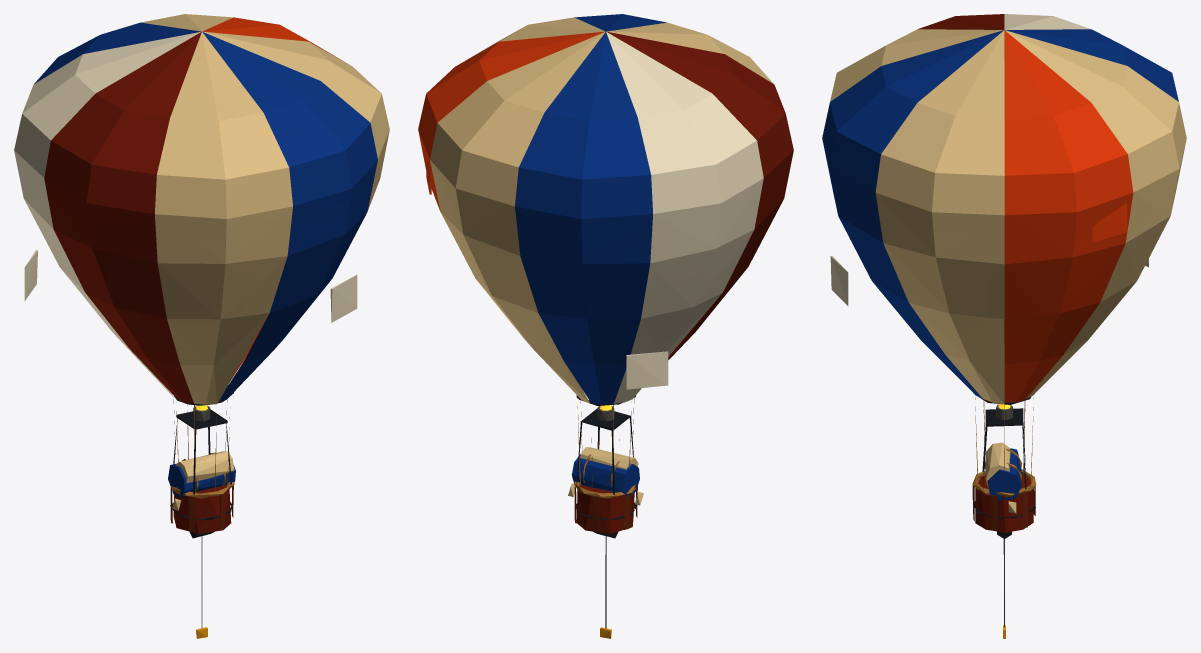
Rendered from tb_balloon.three-web-toon.lod50.glb.
3 views of the same model, side by side, from view 1: azimuth 30°, elevation 25°; view 2: azimuth 150°, elevation 25°; view 3: azimuth 270°, elevation 25° (orthographic).
Parts seen in each view (by area): view 1: balloon_envelope_mesh_lod, balloon_basket_lod, balloon_stowed_mesh_lod, balloon_burner_mesh_lod; view 2: balloon_envelope_mesh_lod, balloon_basket_lod, balloon_stowed_mesh_lod, balloon_burner_mesh_lod; view 3: balloon_envelope_mesh_lod, balloon_basket_lod, balloon_stowed_mesh_lod, balloon_burner_mesh_lod.
Part boxes in pixels (box(x1,y1,x2,y2)): balloon_envelope_mesh_lod: box(14, 14, 389, 491); balloon_basket_lod: box(170, 482, 234, 533); balloon_stowed_mesh_lod: box(168, 451, 235, 497); balloon_burner_mesh_lod: box(173, 405, 231, 494); balloon_envelope_mesh_lod: box(418, 14, 793, 486); balloon_basket_lod: box(568, 481, 643, 533); balloon_stowed_mesh_lod: box(572, 447, 639, 497); balloon_burner_mesh_lod: box(576, 405, 633, 494); balloon_envelope_mesh_lod: box(822, 14, 1186, 488); balloon_basket_lod: box(972, 469, 1036, 532); balloon_stowed_mesh_lod: box(985, 442, 1022, 501); balloon_burner_mesh_lod: box(982, 404, 1026, 489).
Size of the model in its own units: 6.78 by 12.44 by 6.78.
